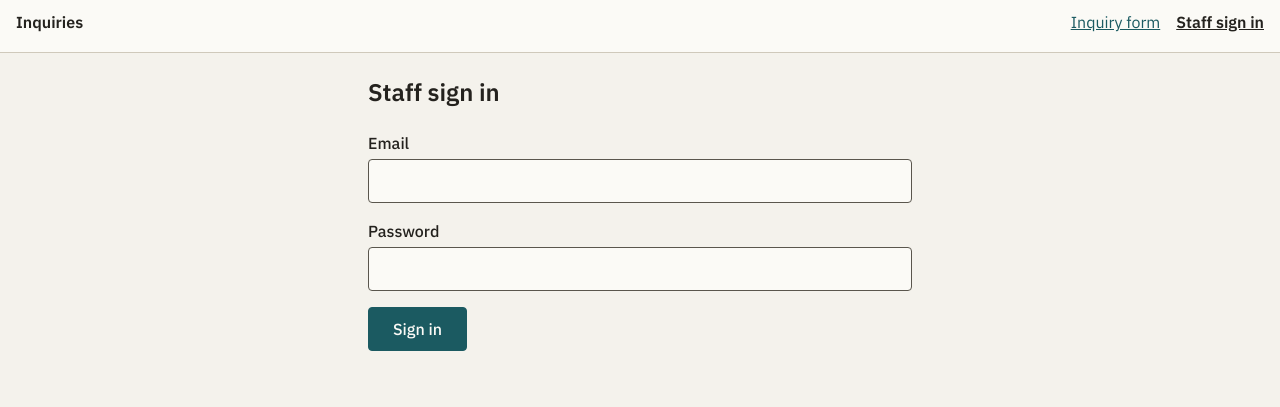
Scenario: login › shows the error for a wrong password
Type "admin@example.com" into the field labelled "Email" at (640,181), box [368,159,912,203]
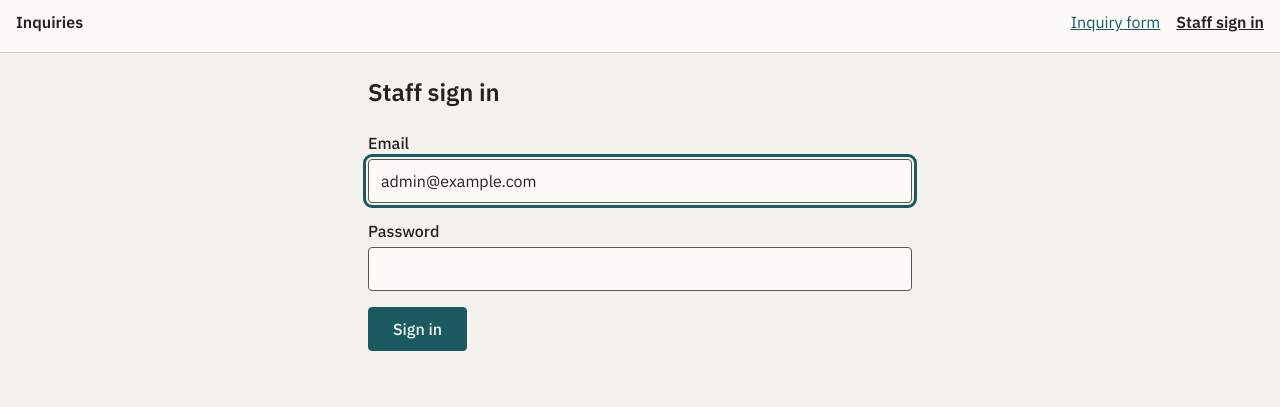
Type "wrong" into the password field labelled "Password" at (640,269), box [368,247,912,291]
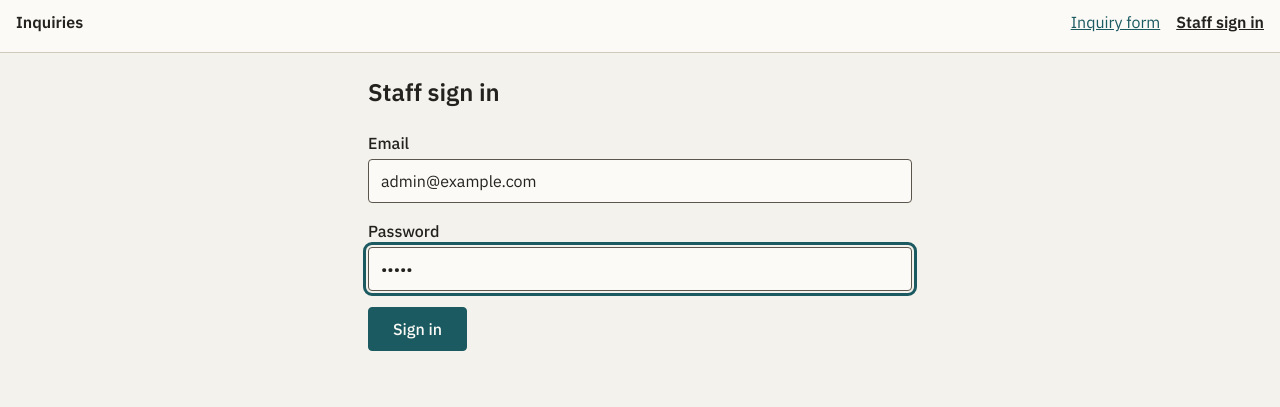
Click the button "Sign in" at (418,329), box [368,307,467,351]
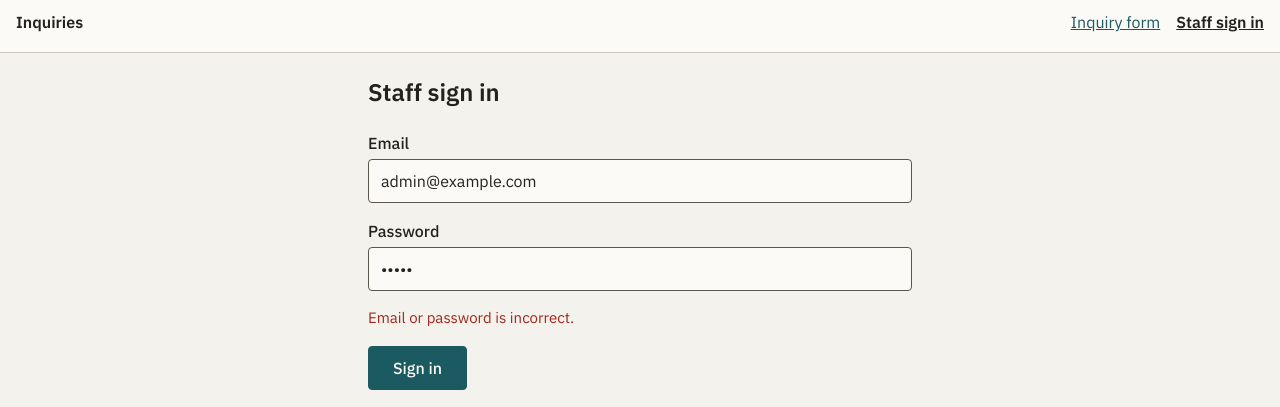
Expected: the message reads "Email or password is incorrect.", [368,308,574,327]
